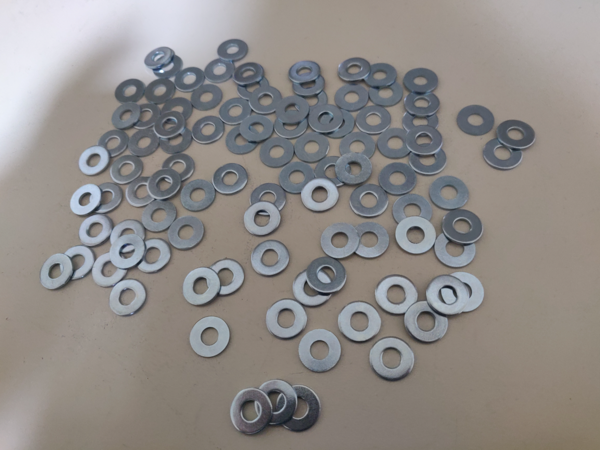circle: (276, 385, 321, 435), (230, 387, 274, 435), (255, 379, 298, 427), (370, 338, 415, 383), (298, 330, 342, 374), (404, 301, 448, 344), (338, 301, 382, 343), (265, 299, 308, 341), (189, 317, 231, 360), (375, 275, 419, 316), (442, 272, 484, 314), (306, 256, 349, 296), (292, 268, 334, 308), (427, 276, 467, 317), (394, 217, 436, 256), (181, 268, 221, 308), (250, 239, 292, 277), (352, 221, 391, 261), (435, 232, 476, 270), (442, 210, 484, 247), (206, 258, 246, 296), (298, 177, 340, 213), (429, 176, 471, 211), (136, 237, 173, 276), (482, 138, 524, 172), (109, 280, 147, 317), (91, 252, 128, 290), (393, 194, 433, 229), (277, 160, 315, 196), (321, 223, 359, 259), (168, 216, 206, 252), (179, 177, 216, 213), (59, 245, 96, 281), (109, 235, 146, 271), (141, 199, 178, 235), (313, 155, 351, 190), (378, 162, 417, 196), (496, 118, 536, 151), (109, 218, 145, 254), (244, 202, 281, 237), (409, 142, 446, 177), (350, 185, 388, 219), (355, 103, 394, 136), (78, 213, 113, 249), (212, 162, 249, 196), (457, 105, 496, 137), (160, 152, 196, 186), (40, 253, 73, 290), (405, 124, 444, 155), (250, 184, 287, 216), (335, 153, 372, 185), (401, 107, 439, 138), (339, 133, 377, 164), (147, 169, 181, 202), (378, 127, 412, 160), (109, 152, 144, 184), (258, 137, 294, 168), (402, 66, 440, 95), (309, 103, 342, 136), (324, 108, 358, 140), (158, 124, 193, 155), (142, 77, 177, 108), (404, 90, 441, 119), (77, 145, 110, 177), (130, 99, 163, 131), (127, 126, 160, 158), (70, 184, 102, 217), (296, 85, 329, 117), (96, 128, 130, 159), (295, 132, 329, 163), (125, 177, 158, 208), (90, 183, 123, 214), (239, 115, 274, 144), (274, 110, 309, 139), (190, 83, 224, 112), (275, 95, 309, 124), (225, 126, 259, 155), (369, 79, 403, 108), (334, 84, 369, 112), (219, 97, 252, 126), (192, 116, 226, 144), (337, 56, 371, 84), (363, 63, 398, 90), (249, 87, 282, 115), (237, 74, 270, 102), (162, 96, 193, 125), (172, 66, 206, 92), (292, 72, 326, 98), (154, 111, 185, 139), (114, 78, 145, 105), (152, 53, 184, 79), (287, 60, 321, 84), (205, 58, 236, 84), (233, 62, 265, 87), (143, 46, 176, 70), (217, 38, 250, 62)
